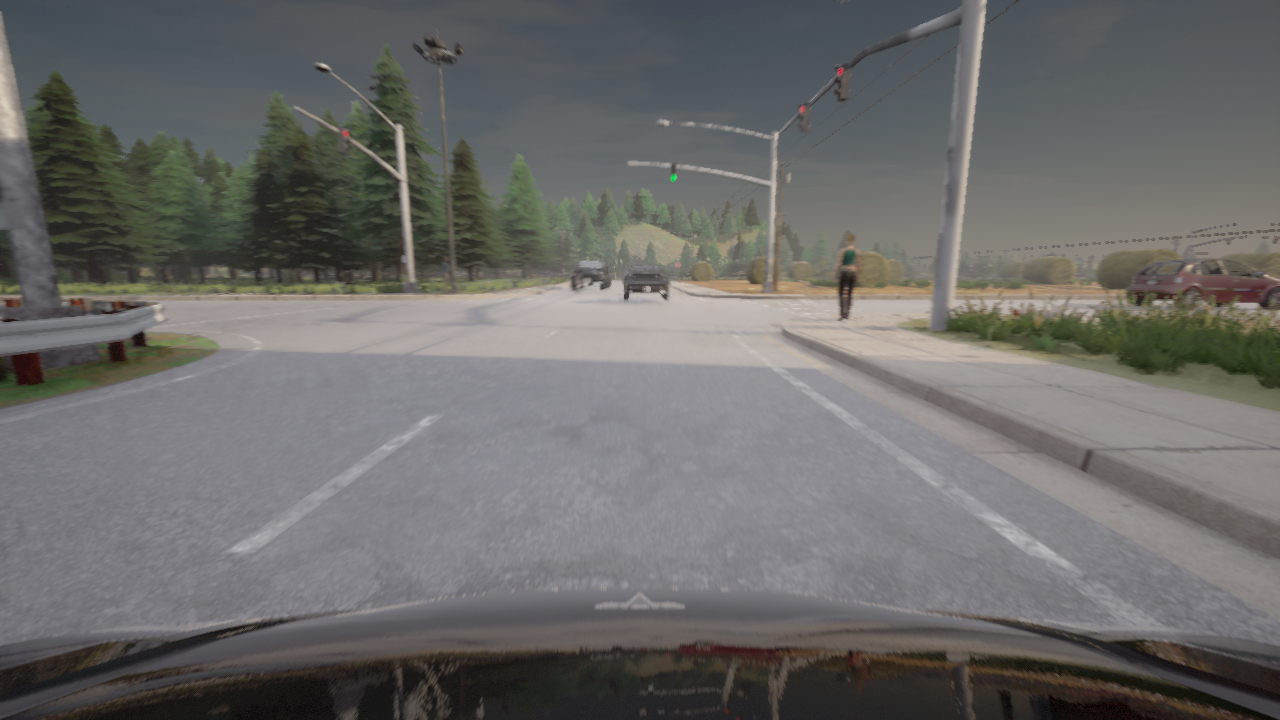cyclist: (0, 588, 1279, 719), (1126, 259, 1279, 310), (620, 263, 670, 300), (569, 260, 610, 290), (587, 276, 611, 287), (576, 275, 580, 292)
pedestrian: (834, 234, 861, 321), (441, 256, 450, 294)
